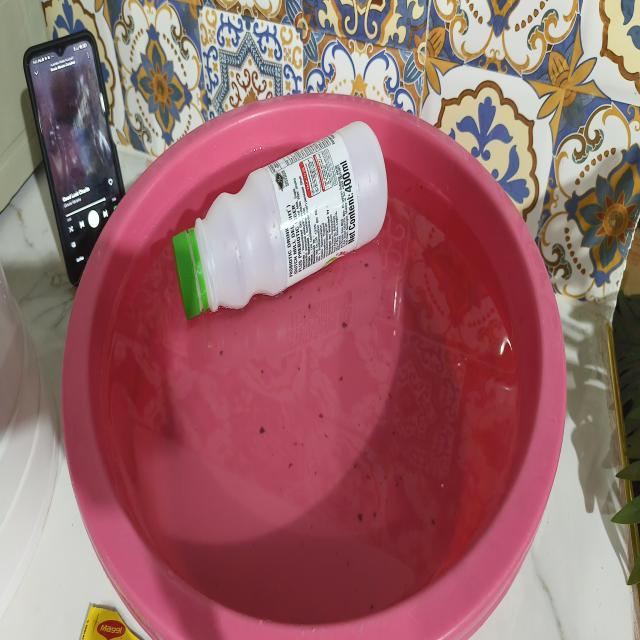Plastic Bottle: (166, 97, 406, 356)
